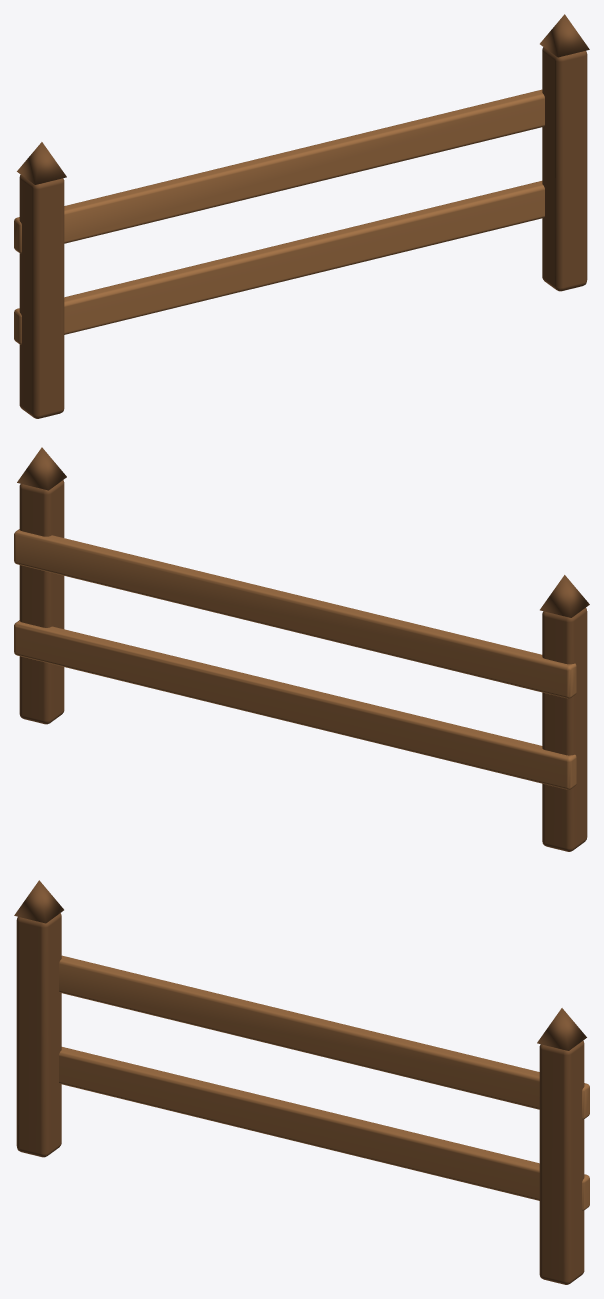
File: fence_mobile.glb
3 renders of one model, top to bottom at view 1: azimuth 30°, elevation 25°; view 2: azimuth 150°, elevation 25°; view 3: azimuth 330°, elevation 25°, orthographic.
Parts seen in each view (by area): view 1: Fence; view 2: Fence; view 3: Fence.
Part boxes in pixels (x1,y1,x2,y2): Fence: (14,14,589,418); Fence: (14,447,589,851); Fence: (14,880,589,1284).
Bounding box in the file's own units: 3.2 × 1.48 × 0.2119.
